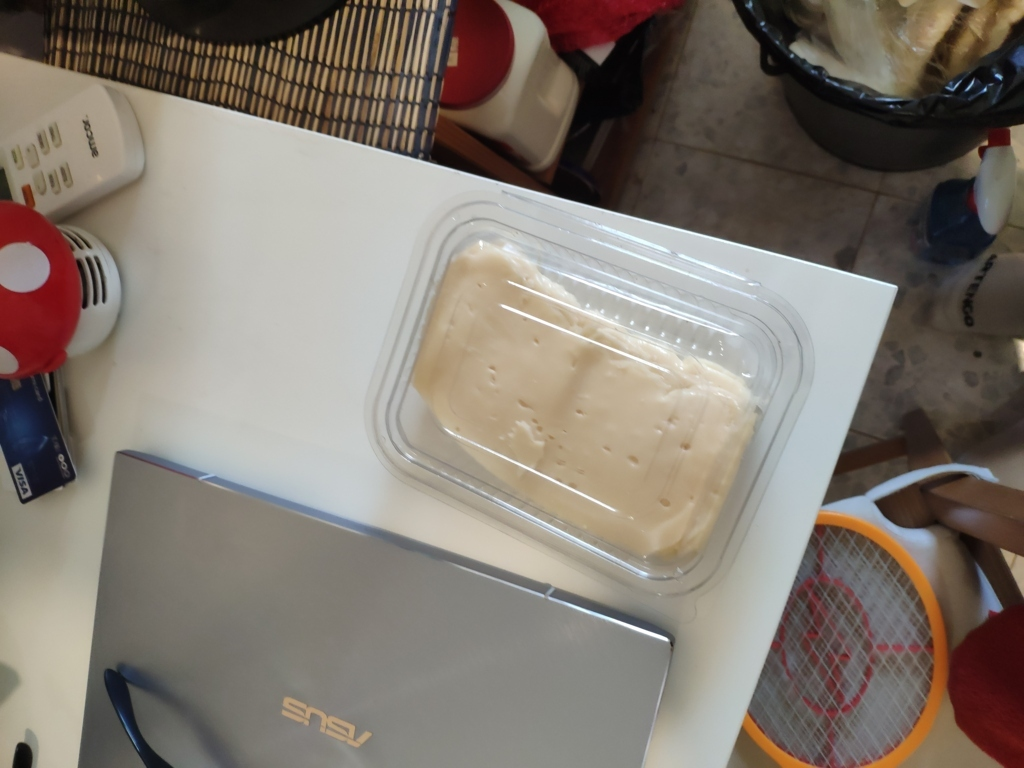Cheese: (352, 195, 837, 599)
